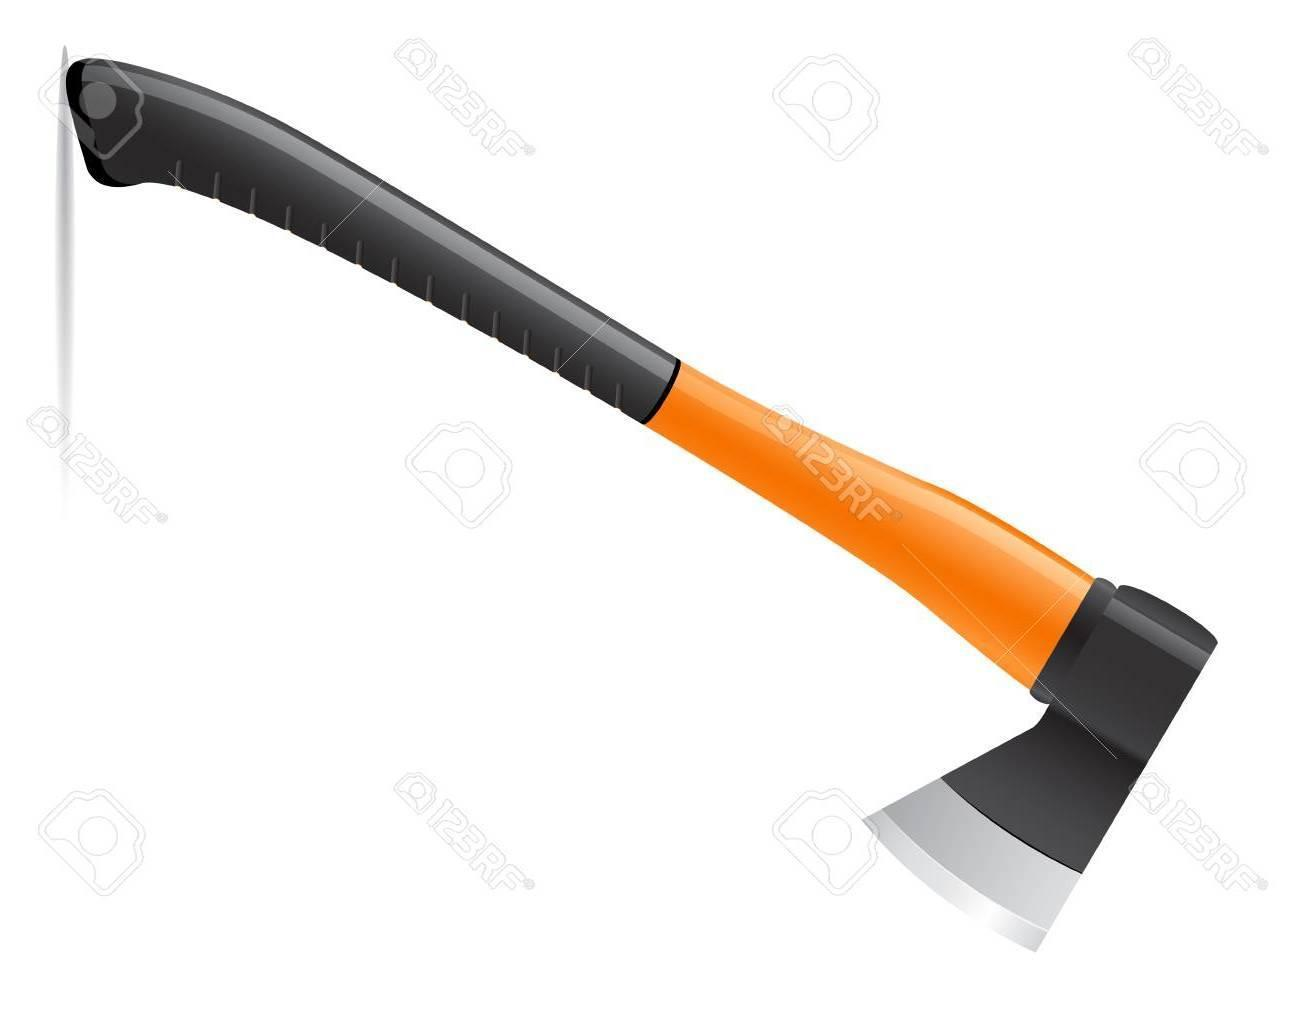machado: (62, 59, 1215, 950)
